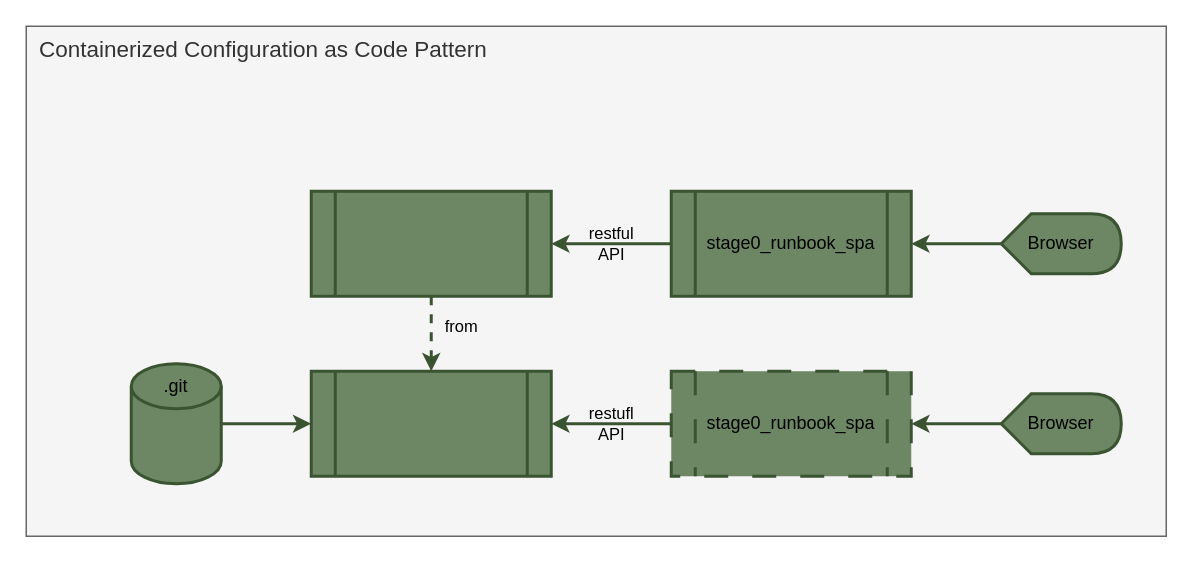
The diagram is 1193 pixels wide and 563 high, and some of its shapes have lost their labels. The shapes that lost their labels are listed below. From the top down, each one's box as (x1, y1, x2, y2) in pixels, then its label:
(309, 189, 552, 297): stage0_runbook_api
(129, 362, 222, 484): runbooks
(309, 369, 552, 477): your_runbook_api
